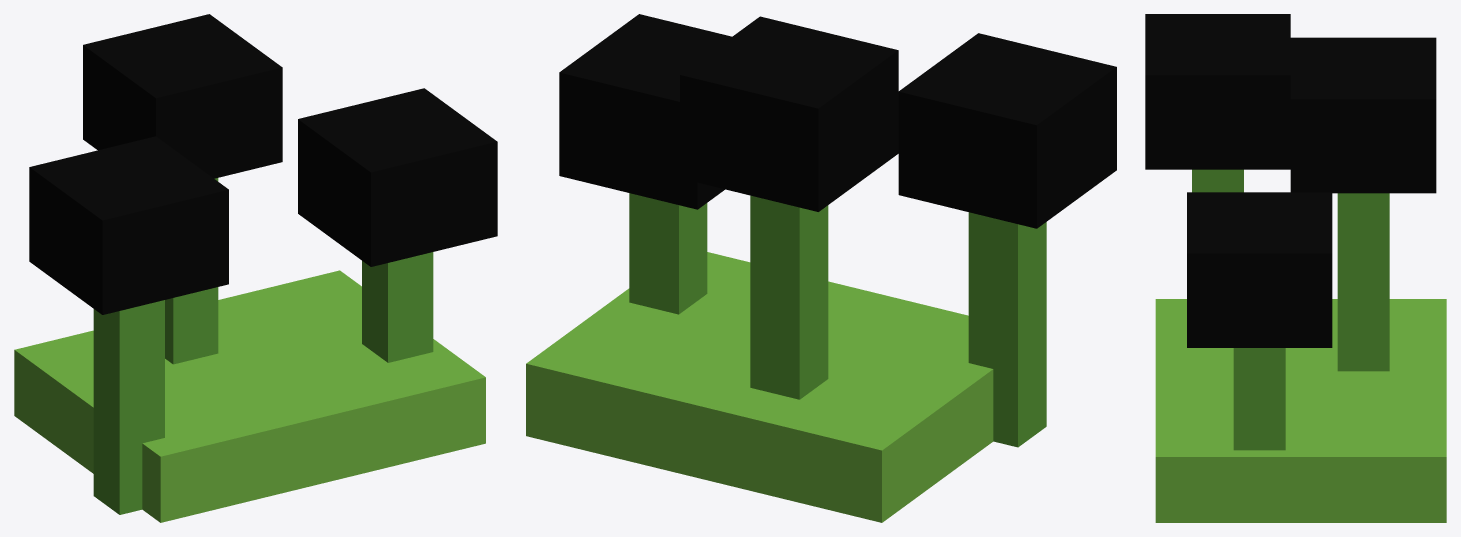
The model's file is Flowers_Green.obj.
3 renders of one model, left to right at view 1: azimuth 30°, elevation 25°; view 2: azimuth 150°, elevation 25°; view 3: azimuth 270°, elevation 25°, orthographic. The views are drawn at different scales.
Visible parts, largest first — view 1: Flowers_Green; view 2: Flowers_Green; view 3: Flowers_Green.
Boxes of the visible parts, box(x1,y1,x2,y2) form: Flowers_Green: box(14, 14, 497, 522); Flowers_Green: box(526, 14, 1116, 522); Flowers_Green: box(1145, 14, 1446, 522).
Size of the model in its own units: 2.3 by 1.9 by 1.45.
